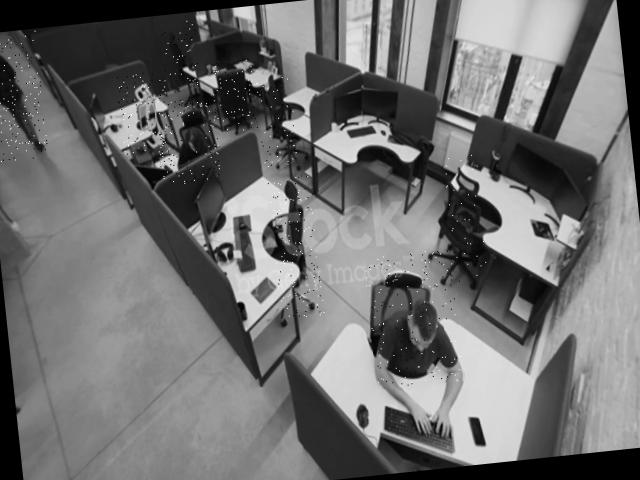empty chair: (268, 175, 326, 323), (443, 154, 488, 285), (115, 70, 173, 154), (161, 20, 205, 118), (255, 76, 299, 168), (210, 59, 258, 133)
occupiedchair: (364, 248, 465, 390), (154, 94, 223, 187)
